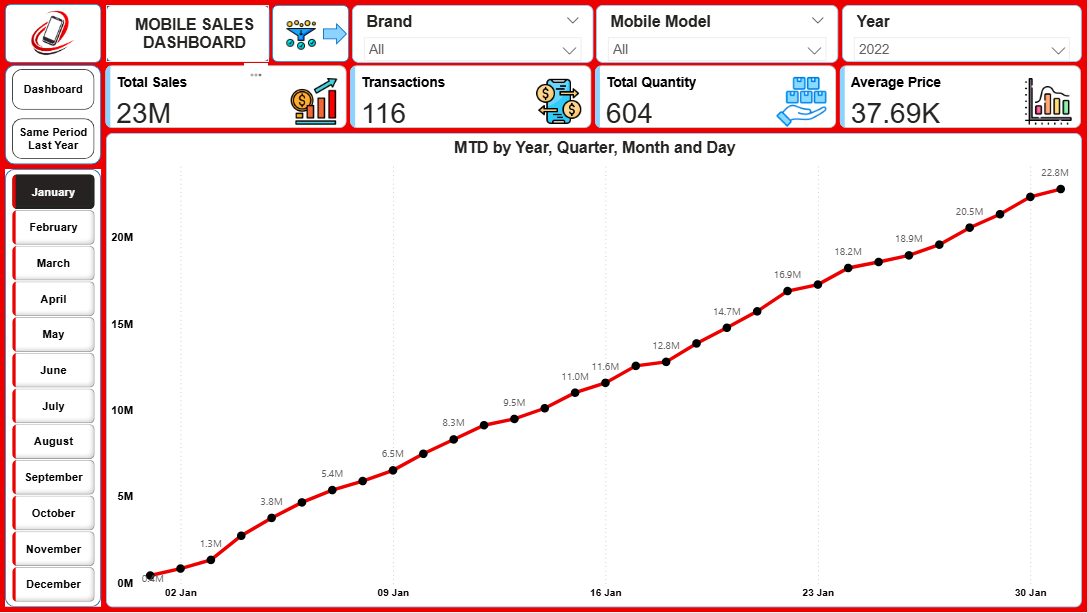

This screenshot's page, from the dashboard's own definition file:
{"tool":"powerbi","page":{"name":"MTD REPORT","canvas":[1280,720],"ordinal":1},"visuals":[{"type":"shape","box":[5.8,4.2,113.3,69.2],"z":0},{"type":"image","box":[25.5,1,73,75.5],"z":1000},{"type":"shape","box":[5.9,198.8,112.9,515.3],"z":2000},{"type":"shape","box":[6,77,113,117],"z":3000},{"type":"cardVisual","fields":{"Data":["All Measures.Total Sales","All Measures.Total Transactioin","All Measures.Total Quantity","All Measures.Average Price"]},"box":[119.1,71.8,1160.9,84.5],"z":4000},{"type":"slicer","fields":{"Values":["Mobile Sales.Brand"]},"box":[414.1,5.9,283.5,68.2],"z":5000},{"type":"slicer","fields":{"Values":["Custom_Calender.Date.Variation.Date Hierarchy.Year","Custom_Calender.Date.Variation.Date Hierarchy.Quarter","Custom_Calender.Date.Variation.Date Hierarchy.Month","Custom_Calender.Date.Variation.Date Hierarchy.Day"]},"box":[990.6,5.9,282.4,67.1],"z":6000},{"type":"slicer","fields":{"Values":["Mobile Sales.Mobile Model"]},"box":[701.2,5.9,284.7,68.2],"z":7000},{"type":"shape","box":[320,5.9,90.6,67.1],"z":8000},{"type":"shape","box":[124.5,5.5,192.5,67],"z":9000},{"type":"textbox","box":[138.3,13.3,180,58.3],"z":10000},{"type":"lineChart","fields":{"Y":["All Measures.MTD"],"Category":["Custom_Calender.Date.Variation.Date Hierarchy.Year","Custom_Calender.Date.Variation.Date Hierarchy.Quarter","Custom_Calender.Date.Variation.Date Hierarchy.Month","Custom_Calender.Date.Variation.Date Hierarchy.Day"]},"box":[124.5,156.4,1148.2,558.2],"z":11000},{"type":"advancedSlicerVisual","fields":{"Values":["Custom_Calender.Date.Variation.Date Hierarchy.Month"]},"box":[9.4,200,107.1,515.3],"z":12000},{"type":"pageNavigator","box":[14.3,80.7,97.9,107.9],"z":13000},{"type":"image","box":[324.3,17.6,59.5,47.3],"z":14000},{"type":"shape","box":[379.7,27,28.4,25.7],"z":15000}]}

Visuals, with their boxes in screenshot pixels (x1, y1, x2, y2), scaled from the page's 1280x720 canvas onto the 1087x613 screenshot:
shape: [5,4,101,62]
image: [22,1,84,65]
shape: [5,169,101,608]
shape: [5,66,101,165]
cardVisual - All Measures.Total Sales x All Measures.Total Transactioin: [101,61,1086,133]
slicer - Mobile Sales.Brand: [352,5,592,63]
slicer - Custom_Calender.Date.Variation.Date Hierarchy.Year x Custom_Calender.Date.Variation.Date Hierarchy.Quarter: [841,5,1081,62]
slicer - Mobile Sales.Mobile Model: [595,5,837,63]
shape: [272,5,349,62]
shape: [106,5,269,62]
textbox: [117,11,270,61]
lineChart - All Measures.MTD x Custom_Calender.Date.Variation.Date Hierarchy.Year: [106,133,1081,608]
advancedSlicerVisual - Custom_Calender.Date.Variation.Date Hierarchy.Month: [8,170,99,609]
pageNavigator: [12,69,95,161]
image: [275,15,326,55]
shape: [322,23,347,45]
